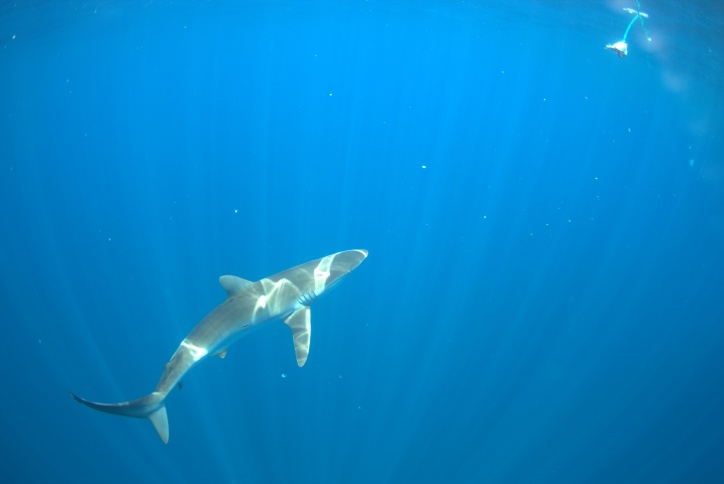Sedoso: (65, 239, 378, 449)
